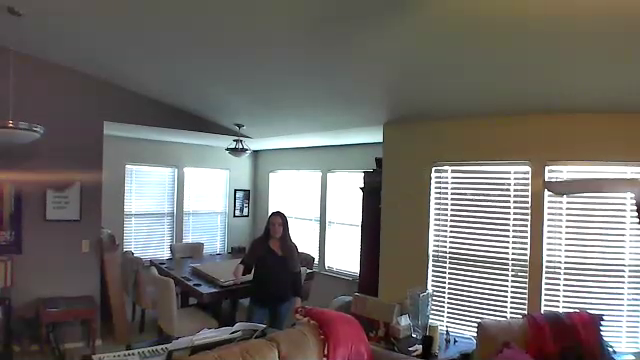down: (231, 261, 248, 289)
